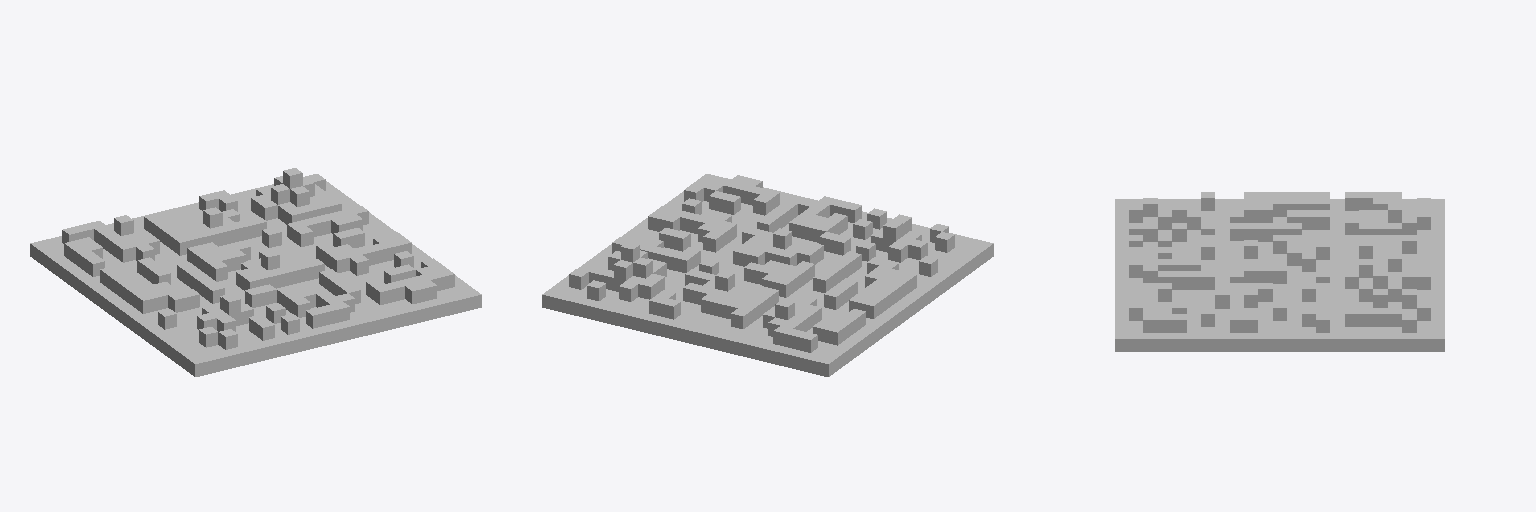
Rendered from Cave Tile 4.obj.
3 views of the same model, side by side, from view 1: azimuth 30°, elevation 25°; view 2: azimuth 150°, elevation 25°; view 3: azimuth 270°, elevation 25° (orthographic).
Parts seen in each view (by area): view 1: object 1; view 2: object 1; view 3: object 1.
Part boxes in pixels (left/top/right/bottom): object 1: left=30, top=168, right=481, bottom=376; object 1: left=542, top=174, right=993, bottom=376; object 1: left=1115, top=192, right=1444, bottom=351.
Size of the model in its own units: 2.3 by 0.4 by 2.3.